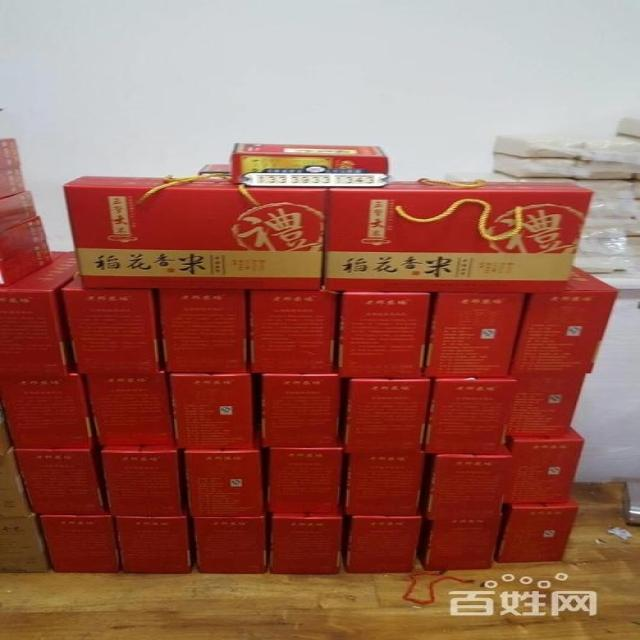box: (324, 177, 594, 293), (63, 173, 328, 291), (511, 264, 618, 375), (61, 273, 164, 374), (0, 251, 78, 378), (425, 292, 527, 377), (338, 291, 431, 377), (156, 289, 250, 373), (0, 372, 99, 449), (250, 290, 340, 373), (425, 375, 518, 455), (422, 443, 512, 522), (344, 377, 434, 453), (87, 368, 175, 445), (169, 372, 255, 449), (15, 446, 108, 515), (503, 425, 585, 503), (260, 372, 343, 447), (100, 444, 182, 515), (184, 448, 264, 518), (111, 508, 195, 574), (497, 497, 579, 563), (347, 451, 425, 515), (417, 513, 503, 571), (506, 374, 586, 436), (269, 447, 344, 513), (40, 515, 120, 573), (191, 515, 268, 574), (344, 515, 422, 573), (271, 512, 342, 574), (0, 213, 51, 288), (0, 515, 51, 572), (0, 444, 32, 517), (0, 137, 26, 198), (0, 191, 36, 233), (0, 401, 14, 456), (49, 251, 65, 263)
